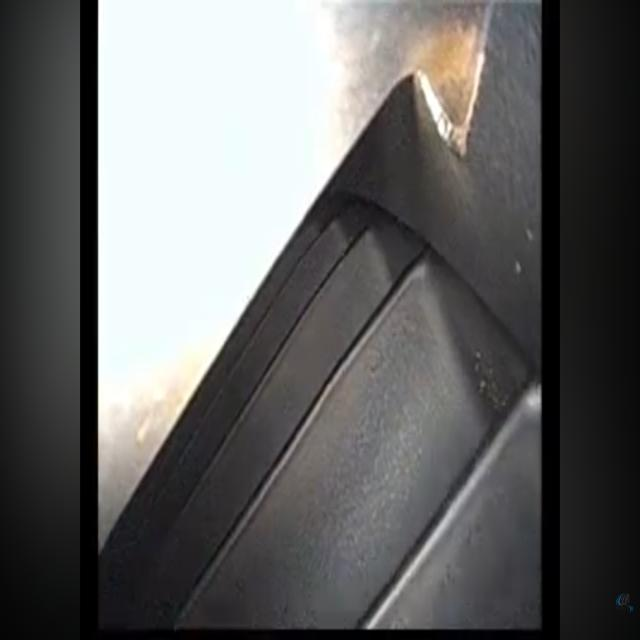turbine_blade: (174, 243, 533, 628), (370, 381, 540, 626)
